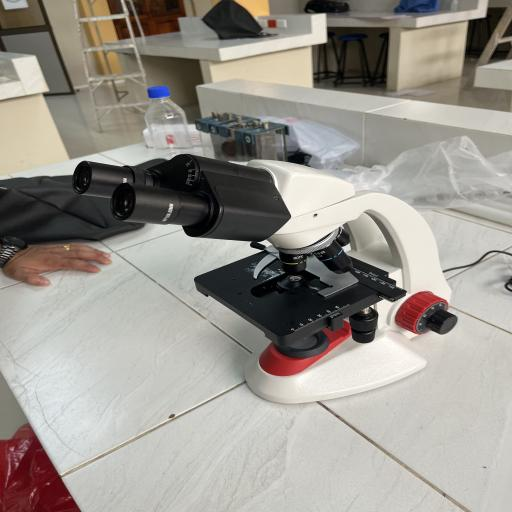Microscopio_Binocular: (60, 138, 485, 420)
